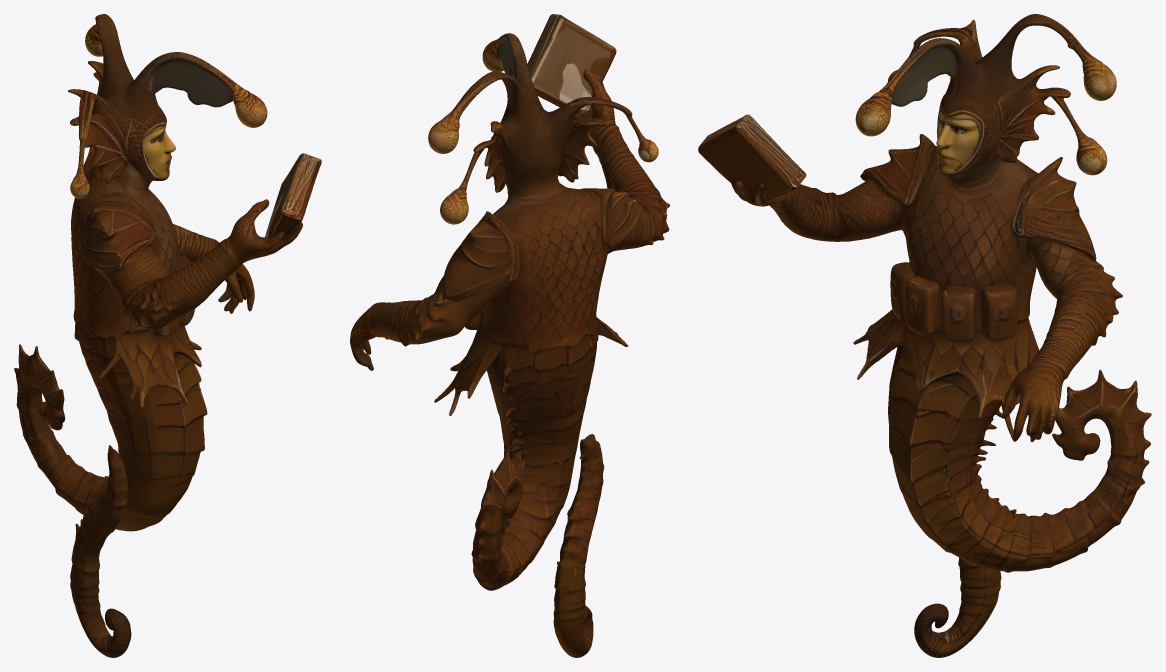
The picture shows the model from 3 angles, left to right: view 1: azimuth 30°, elevation 25°; view 2: azimuth 150°, elevation 25°; view 3: azimuth 270°, elevation 25°; orthographic projection. The views are drawn at different scales.
Parts seen in each view (by area): view 1: tripo_node_ad7f3b4e-86dc-4a97-8ea3-7a92b778635a; view 2: tripo_node_ad7f3b4e-86dc-4a97-8ea3-7a92b778635a; view 3: tripo_node_ad7f3b4e-86dc-4a97-8ea3-7a92b778635a.
Boxes of the visible parts, <box> form: tripo_node_ad7f3b4e-86dc-4a97-8ea3-7a92b778635a: <box>14,14,321,657</box>; tripo_node_ad7f3b4e-86dc-4a97-8ea3-7a92b778635a: <box>350,14,669,657</box>; tripo_node_ad7f3b4e-86dc-4a97-8ea3-7a92b778635a: <box>698,14,1151,657</box>.
Size of the model in its own units: 0.4164 by 1 by 0.6226.
1 material, 1 textured.
